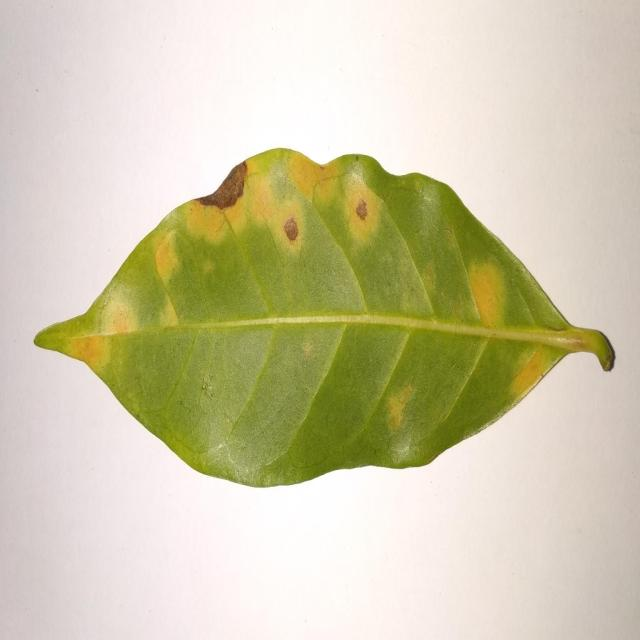Enfermedad-Antracnosis: (32, 149, 617, 491)
